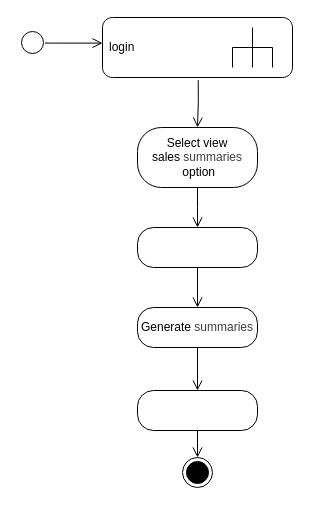
Some shapes in this 310 by 505 pixel diagram are drawn without their labels. The box of each missing label's shape, as (x1, y1, x2, y2) in pixels:
Display summaries: (136, 390, 258, 430)
Fetch data from database: (136, 226, 258, 268)
